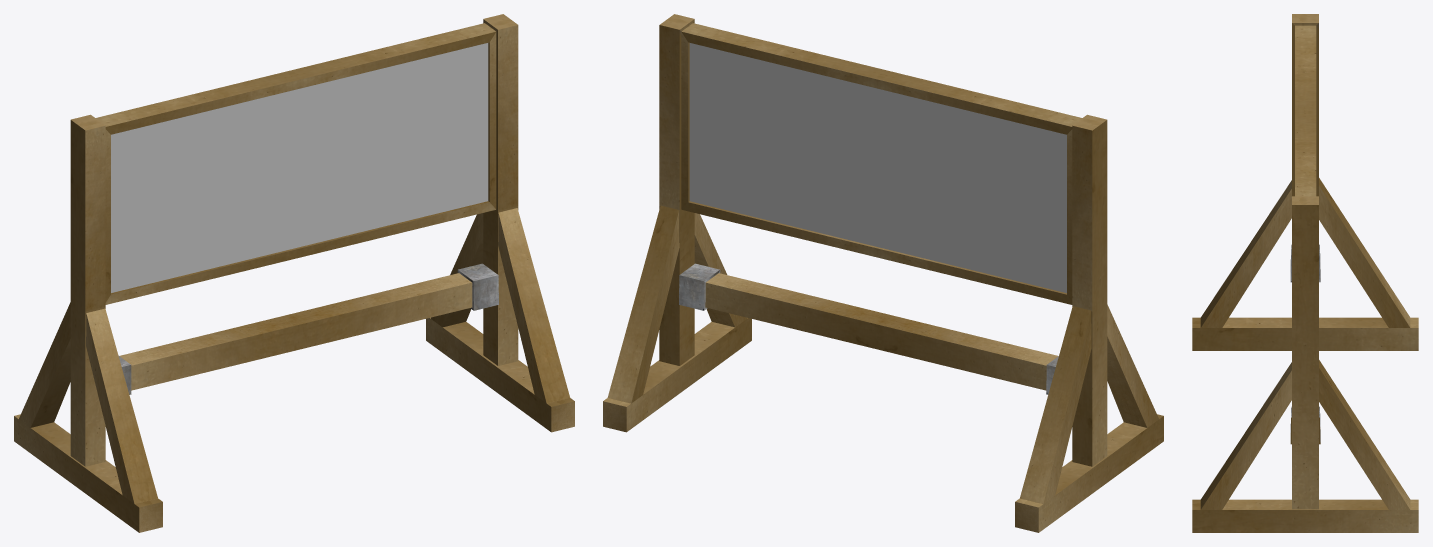
The model's file is LCDSign.fbx.
The picture shows the model from 3 angles, left to right: view 1: azimuth 30°, elevation 25°; view 2: azimuth 150°, elevation 25°; view 3: azimuth 270°, elevation 25°; orthographic projection. The views are drawn at different scales.
Visible parts, largest first — view 1: LedArrowRoadSign; view 2: LedArrowRoadSign; view 3: LedArrowRoadSign.
Boxes of the visible parts, left/top/right/bottom form: LedArrowRoadSign: left=14, top=14, right=574, bottom=532; LedArrowRoadSign: left=603, top=14, right=1163, bottom=532; LedArrowRoadSign: left=1192, top=14, right=1418, bottom=532.
Bounding box in the file's own units: 528 × 419 × 263.
